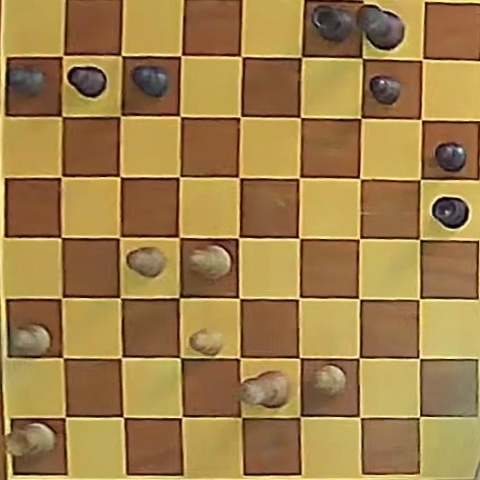black-king: (356, 5, 404, 50)
black-pawn: (131, 66, 169, 98), (68, 66, 106, 98), (9, 66, 45, 97), (434, 142, 466, 171), (370, 76, 401, 105)
black-rook: (312, 5, 354, 43), (431, 197, 468, 229)
white-bishop: (188, 245, 231, 280)
white-king: (238, 371, 288, 408)
white-pawn: (10, 324, 51, 357), (126, 247, 167, 278), (314, 364, 347, 396), (190, 328, 224, 355)
white-rook: (6, 422, 56, 457)
